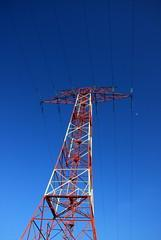power_tower: (22, 81, 136, 240)
